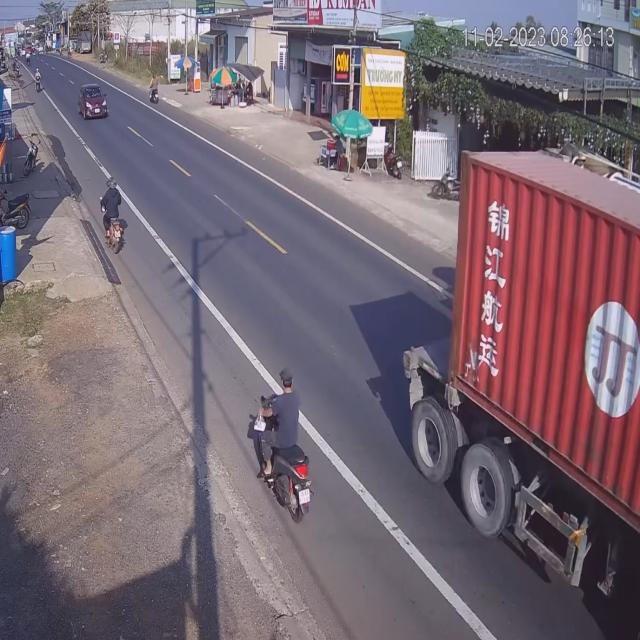car: (80, 83, 109, 120)
motorbike: (252, 370, 316, 520), (104, 176, 129, 255), (148, 75, 160, 107)
truck: (402, 128, 638, 621)
